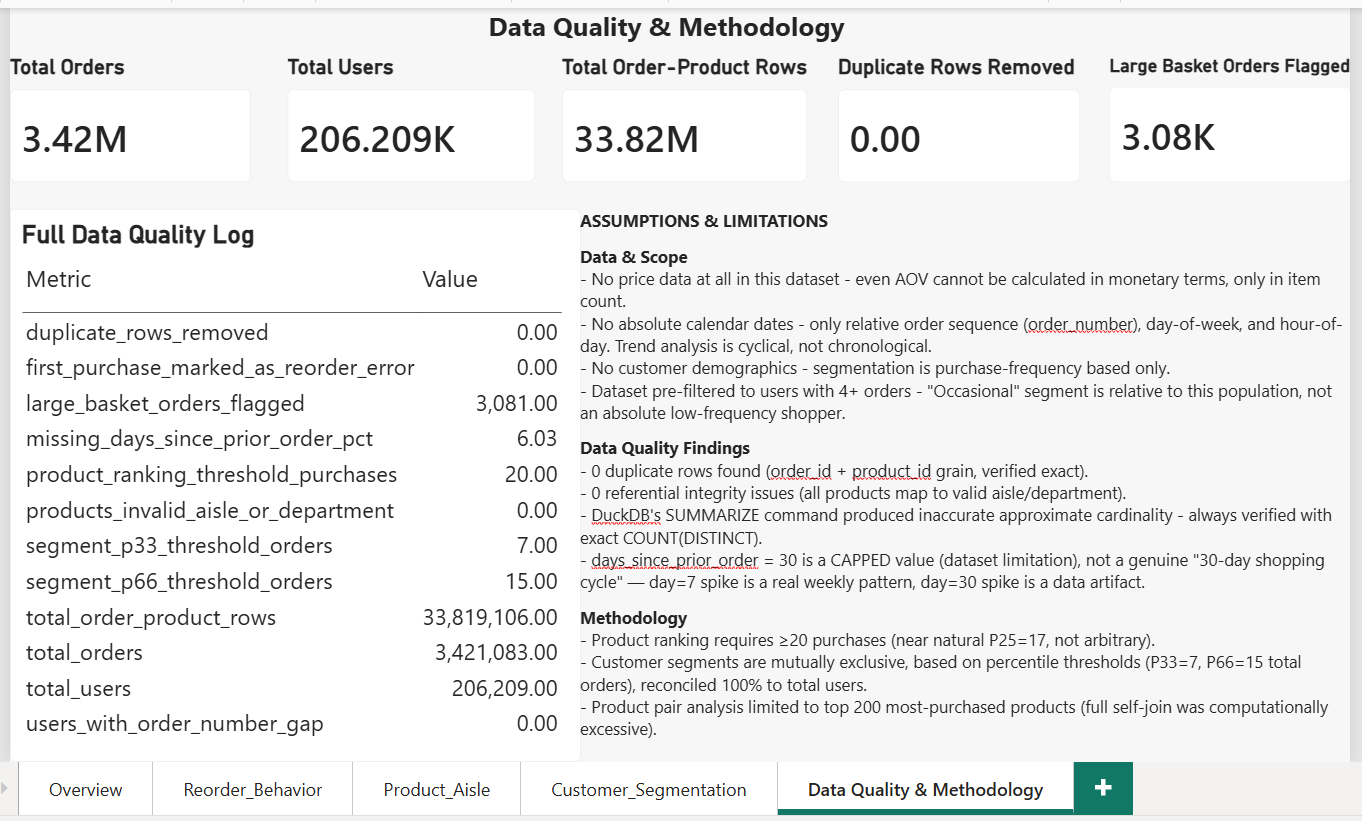

What the dashboard file says about the page in this screenshot:
{"tool":"powerbi","page":{"name":"Data Quality & Methodology","canvas":[1920,1080],"ordinal":4},"visuals":[{"type":"textbox","box":[685.7,0,565.7,65.7],"z":0},{"type":"cardVisual","title":"Total Orders","fields":{"Data":["mart_data_quality_summary.Total Orders (DQ)"]},"box":[0,65.7,345.7,182.9],"z":1000},{"type":"cardVisual","title":"Total Users","fields":{"Data":["mart_data_quality_summary.Total Users (DQ)"]},"box":[397.1,65.7,354.3,182.9],"z":2000},{"type":"cardVisual","title":"Total Order-Product Rows","fields":{"Data":["mart_data_quality_summary.Total Order-Product Rows"]},"box":[791.4,65.7,351.4,182.9],"z":3000},{"type":"cardVisual","title":"Duplicate Rows Removed","fields":{"Data":["mart_data_quality_summary.Duplicate Rows Removed"]},"box":[1185.7,65.7,346,183],"z":4000},{"type":"cardVisual","title":"Large Basket Orders Flagged","fields":{"Data":["mart_data_quality_summary.Large Basket Orders Flagged"]},"box":[1574.3,65.7,346,183],"z":5000},{"type":"tableEx","title":"Full Data Quality Log","fields":{"Values":["mart_data_quality_summary.metric","Sum(mart_data_quality_summary.value)"]},"box":[0,288.6,817.1,791.4],"z":6000},{"type":"textbox","box":[817.1,288.6,1102.9,791.4],"z":7000}]}

Visuals, with their boxes on the page's 1920x1080 design canvas (x1, y1, x2, y2). These are canvas units, not pixel positions in the 1362x821 screenshot, which may show the page scaled, cropped or inside an application window:
textbox: locate(686, 0, 1251, 66)
"Total Orders" cardVisual: locate(0, 66, 346, 249)
"Total Users" cardVisual: locate(397, 66, 751, 249)
"Total Order-Product Rows" cardVisual: locate(791, 66, 1143, 249)
"Duplicate Rows Removed" cardVisual: locate(1186, 66, 1532, 249)
"Large Basket Orders Flagged" cardVisual: locate(1574, 66, 1920, 249)
"Full Data Quality Log" tableEx: locate(0, 289, 817, 1080)
textbox: locate(817, 289, 1920, 1080)
